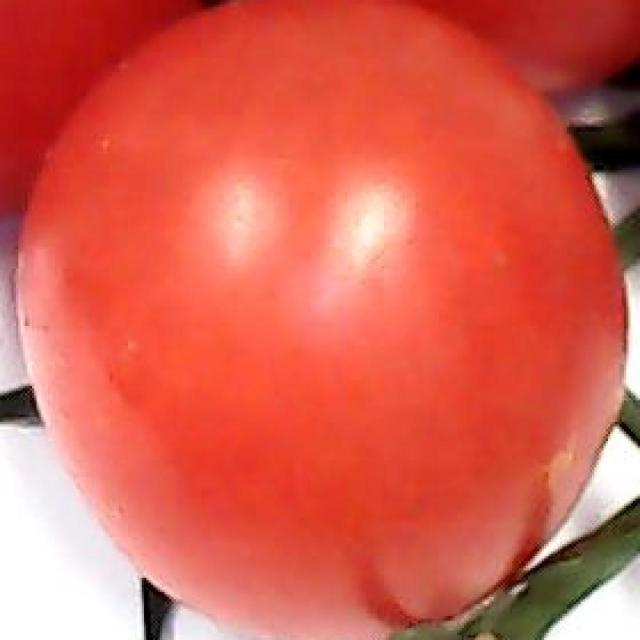Healthy Fruit: (24, 16, 427, 421)
